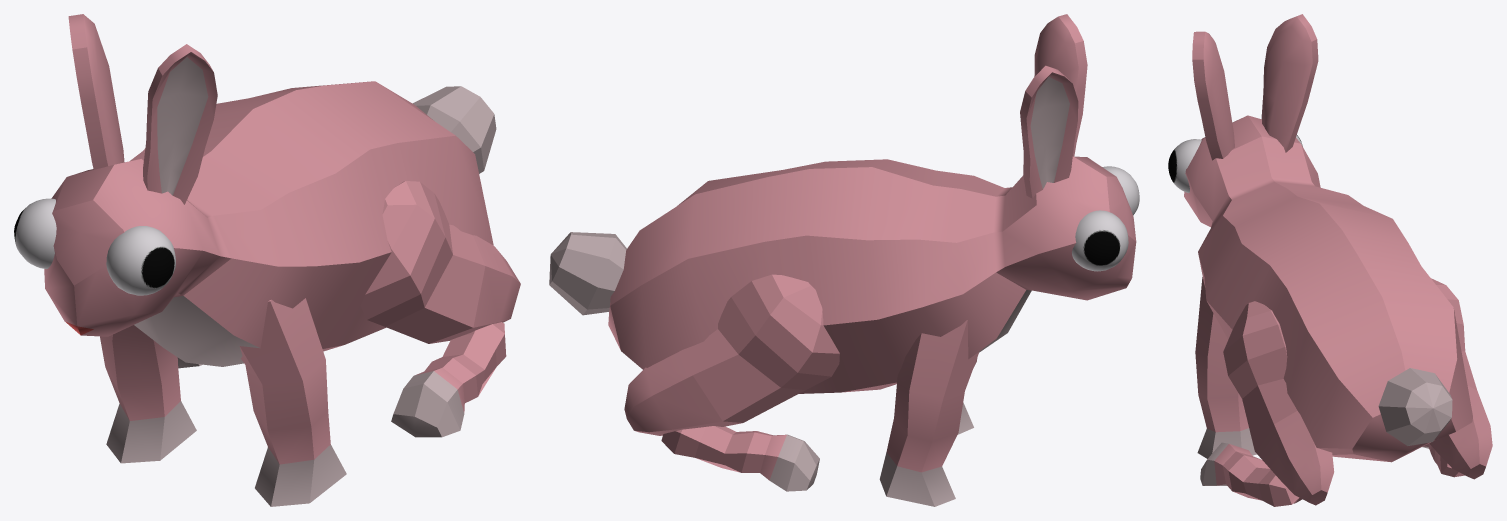
The model's file is Konine.fbx.
3 renders of one model, left to right at view 1: azimuth 30°, elevation 25°; view 2: azimuth 150°, elevation 25°; view 3: azimuth 270°, elevation 25°, orthographic. The views are drawn at different scales.
Parts seen in each view (by area): view 1: node_id10 (×2), node_id8, node_id17 (×2), node_id27 (×2), node_id14 (×2), node_id5 (×2), node_id24, node_id20, node_id35, node_id22; view 2: node_id10, node_id30, node_id27 (×2), node_id32 (×2), node_id24 (×2), node_id35, node_id14, node_id22, node_id20; view 3: node_id10, node_id8, node_id24, node_id17 (×2), node_id35, node_id14, node_id30, node_id5 (×2), node_id20, node_id32.
Boxes of the visible parts, x1,y1,x2,y2 form: node_id10 (×2): (44,81,493,366); node_id8: (360,181,520,343); node_id17 (×2): (239,298,346,506); node_id27 (×2): (100,325,196,463); node_id14 (×2): (143,44,217,204); node_id5 (×2): (391,322,506,437); node_id24: (68,14,124,169); node_id20: (106,226,175,295); node_id35: (412,86,496,173); node_id22: (14,198,56,268); node_id10: (608,156,1136,393); node_id30: (624,274,839,435); node_id27 (×2): (879,320,979,506); node_id32 (×2): (661,426,819,491); node_id24 (×2): (1020,65,1078,198); node_id35: (549,232,626,315); node_id14: (1034,14,1087,156); node_id22: (1072,210,1128,271); node_id20: (1102,166,1139,215); node_id10: (1184,115,1472,462); node_id8: (1223,301,1334,505); node_id24: (1261,14,1318,152); node_id17 (×2): (1195,277,1256,458); node_id35: (1378,368,1452,445); node_id14: (1192,31,1234,160); node_id30: (1429,278,1492,479); node_id5 (×2): (1200,442,1302,506); node_id20: (1168,139,1201,192); node_id32: (1423,443,1464,477).
Size of the model in its own units: 0.4699 by 0.3924 by 0.3012.
20 materials, 2 textured.
